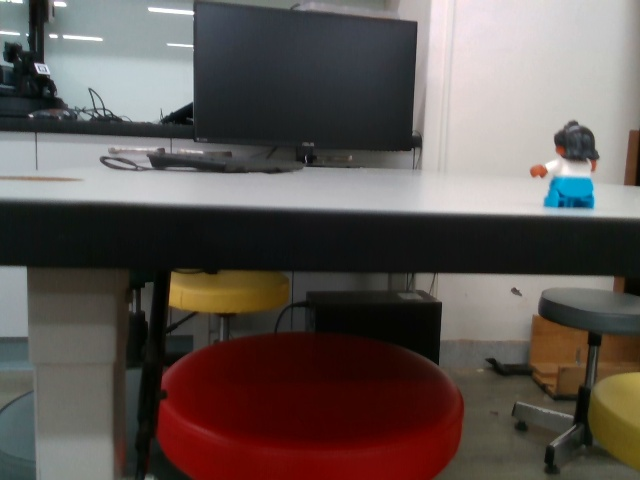people: (528, 119, 606, 216)
